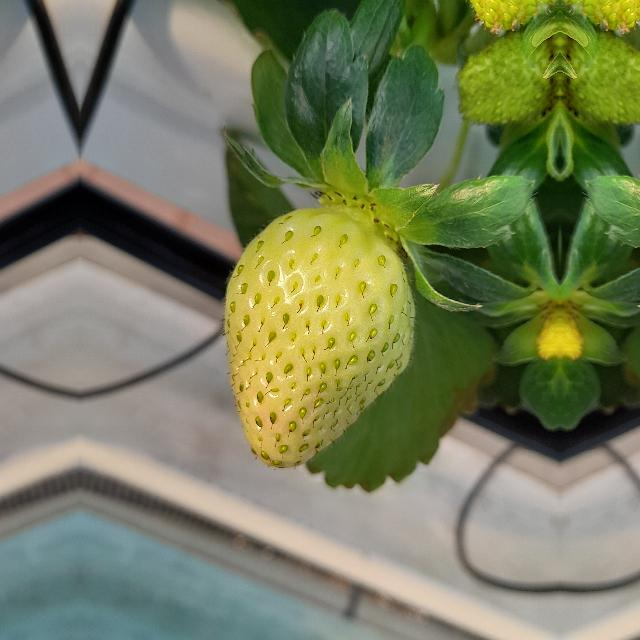Health_25: (456, 32, 556, 132), (563, 32, 640, 132)
Health_50: (220, 205, 418, 470)
